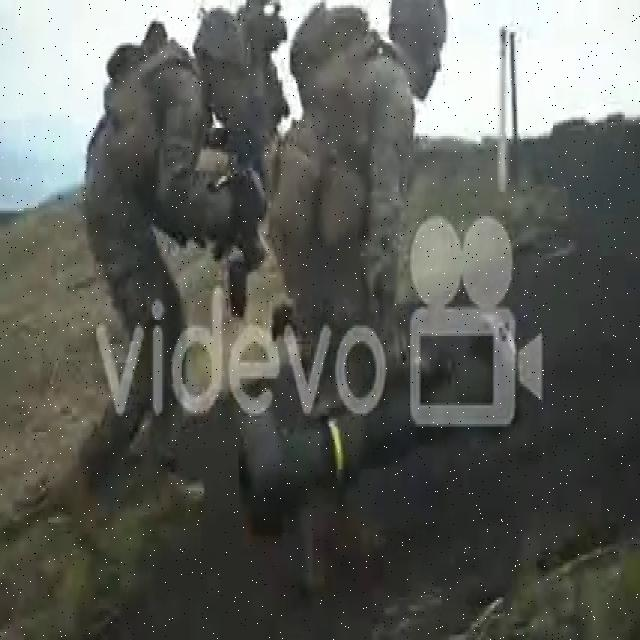bazooka: (228, 313, 526, 550)
